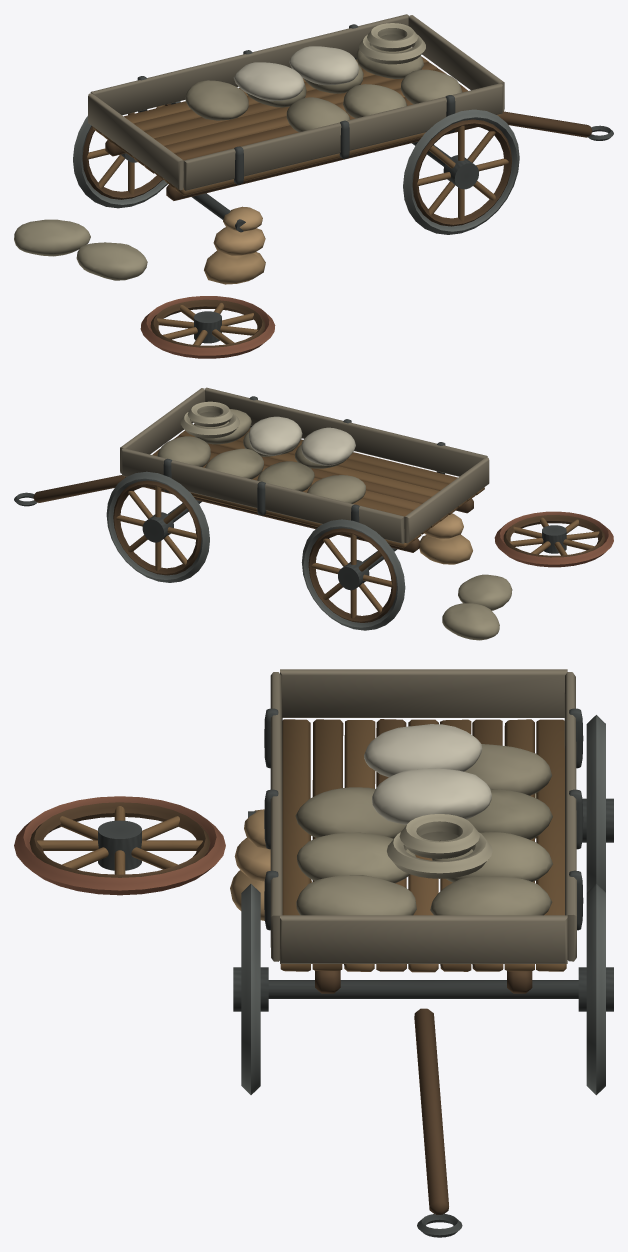
File: haul_wagon_b.glb
3 renders of one model, top to bottom at view 1: azimuth 30°, elevation 25°; view 2: azimuth 150°, elevation 25°; view 3: azimuth 270°, elevation 25°, orthographic. The views are drawn at different scales.
Parts seen in each view (by area): view 1: Surface; view 2: Surface; view 3: Surface.
Boxes of the visible parts, x1,y1,x2,y2 form: Surface: (14, 14, 613, 358); Surface: (14, 387, 613, 640); Surface: (14, 669, 613, 1237).
Size of the model in its own units: 6.45 by 1.75 by 3.75.
